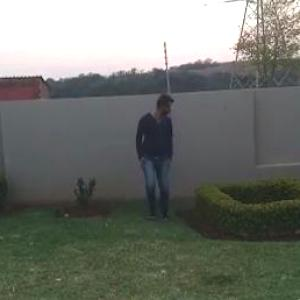follow: (132, 87, 176, 230)
